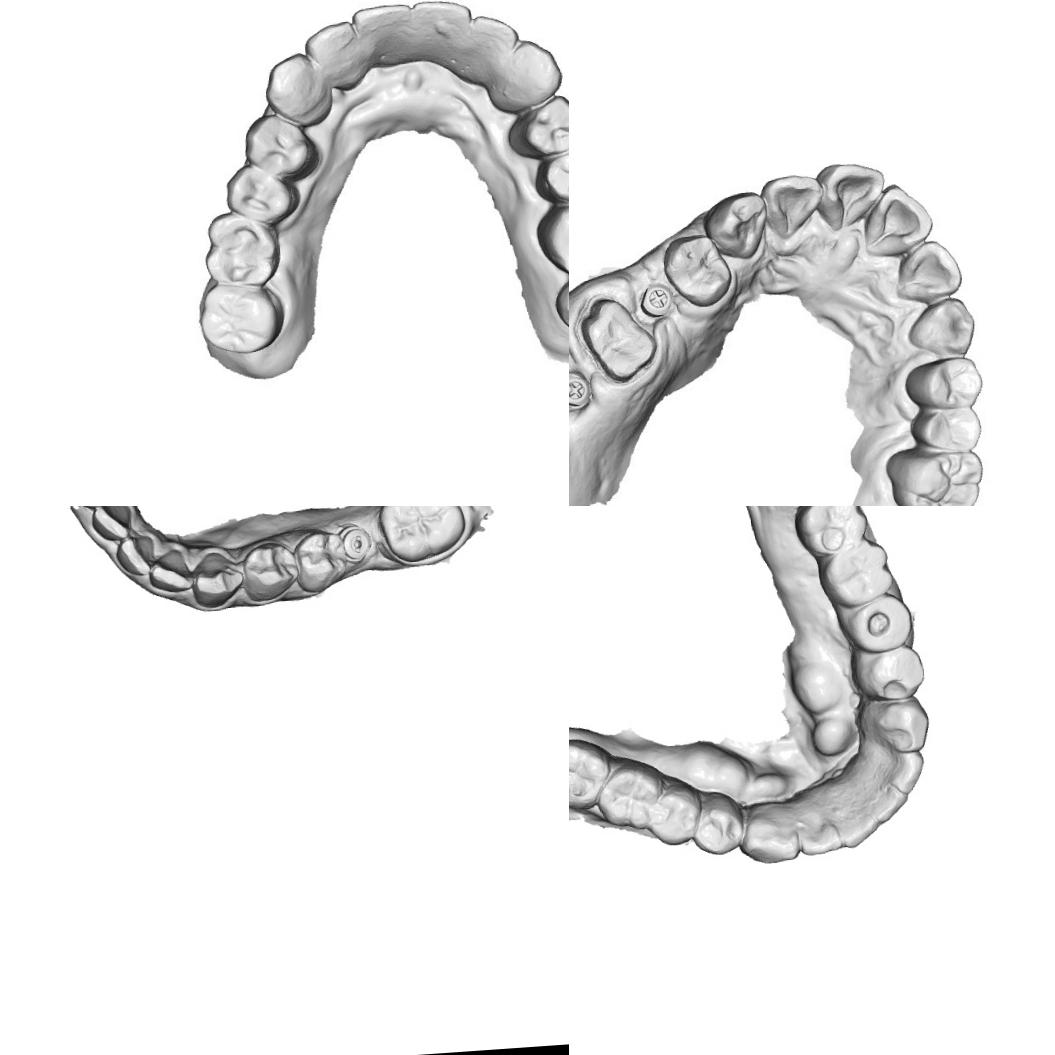canine: (260, 48, 330, 126), (700, 190, 770, 262), (496, 37, 564, 106), (905, 294, 977, 359), (736, 805, 805, 866), (866, 694, 932, 751), (184, 547, 242, 610)
crown: (577, 291, 658, 386)
implant_minus: (340, 521, 376, 567)
implant_plus: (639, 282, 674, 321), (569, 368, 592, 411)
incisor: (857, 178, 939, 260), (814, 159, 888, 235), (886, 236, 968, 303), (757, 170, 822, 238), (300, 19, 362, 87), (352, 0, 416, 63), (412, 0, 475, 57), (466, 15, 517, 70), (145, 544, 197, 596), (880, 744, 926, 797), (796, 809, 844, 858), (864, 780, 912, 826), (114, 532, 158, 580), (836, 804, 880, 850), (87, 506, 137, 542)
molar: (194, 280, 286, 358), (882, 440, 990, 506), (204, 208, 278, 290), (818, 538, 895, 611), (376, 506, 469, 566), (594, 763, 661, 831), (790, 506, 869, 559), (569, 734, 614, 812), (532, 192, 569, 283), (551, 271, 569, 336)
premolar: (658, 228, 732, 310), (899, 351, 988, 414), (839, 590, 918, 656), (239, 112, 314, 181), (221, 162, 296, 227), (850, 643, 926, 704), (239, 536, 302, 604), (907, 403, 985, 455), (292, 526, 349, 594), (646, 782, 704, 847), (691, 795, 745, 858), (520, 91, 569, 157), (539, 141, 569, 204)
